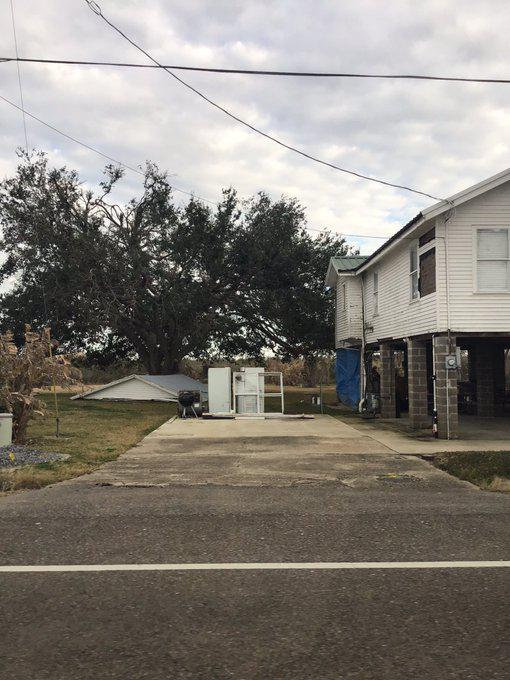minor: (319, 202, 510, 452)
